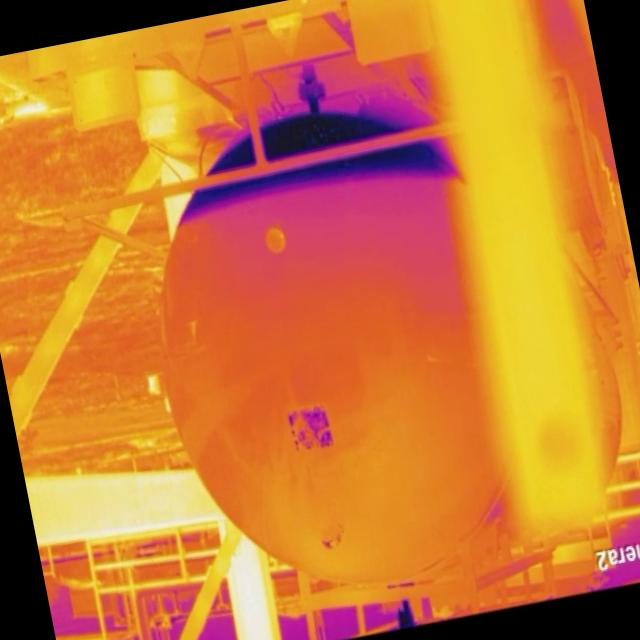tank: (121, 84, 542, 619)
